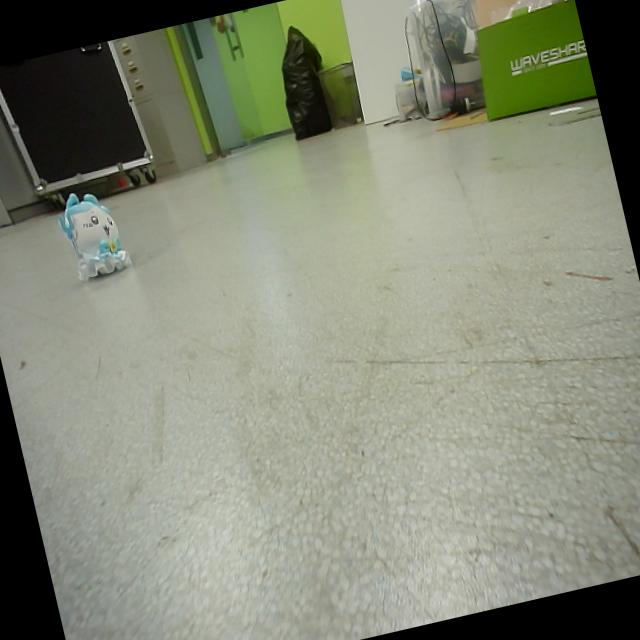xiaoba: (53, 178, 139, 289)
